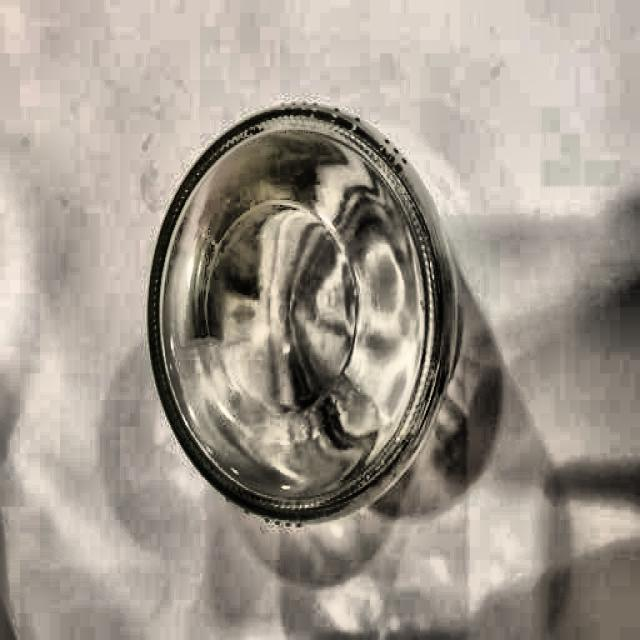glass: (143, 100, 470, 525)
